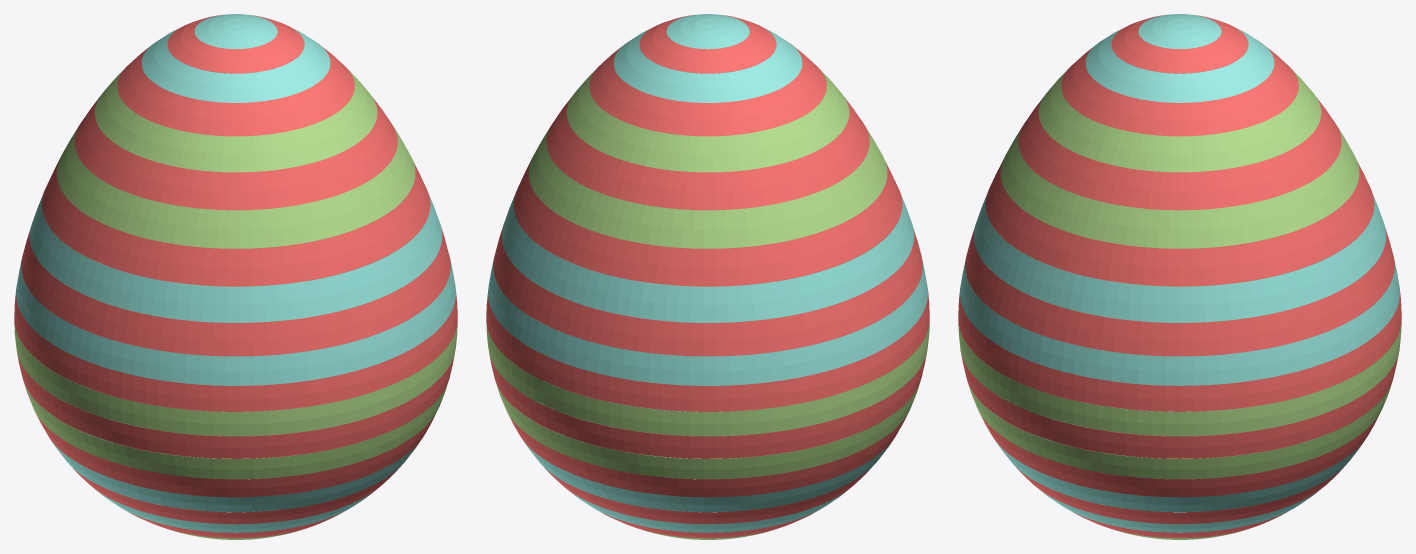
The model's file is redeggDraco.gltf.
3 views of the same model, side by side, from view 1: azimuth 30°, elevation 25°; view 2: azimuth 150°, elevation 25°; view 3: azimuth 270°, elevation 25° (orthographic).
Parts seen in each view (by area): view 1: Sphere; view 2: Sphere; view 3: Sphere.
Boxes of the visible parts, box(x1,y1,x2,y2) form: Sphere: box(14, 14, 457, 539); Sphere: box(486, 14, 929, 539); Sphere: box(958, 14, 1401, 539).
Size of the model in its own units: 2 by 2.46 by 2.
